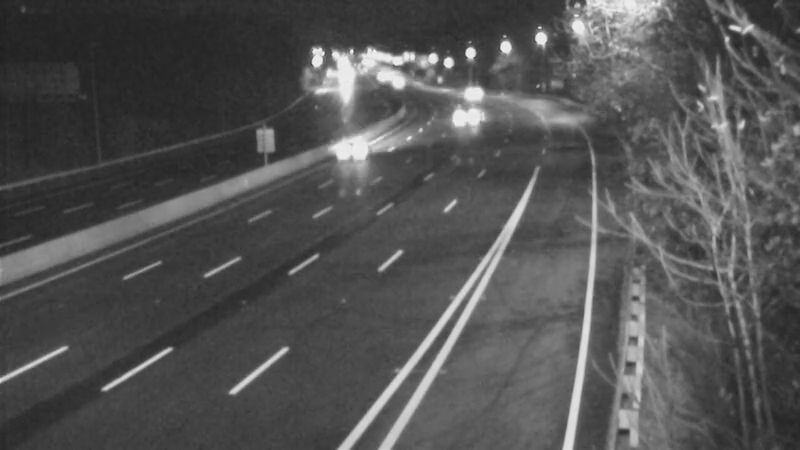vehicle: (313, 114, 393, 194), (357, 52, 407, 102), (372, 58, 422, 108), (443, 64, 493, 114), (445, 92, 495, 142), (318, 56, 368, 106)
